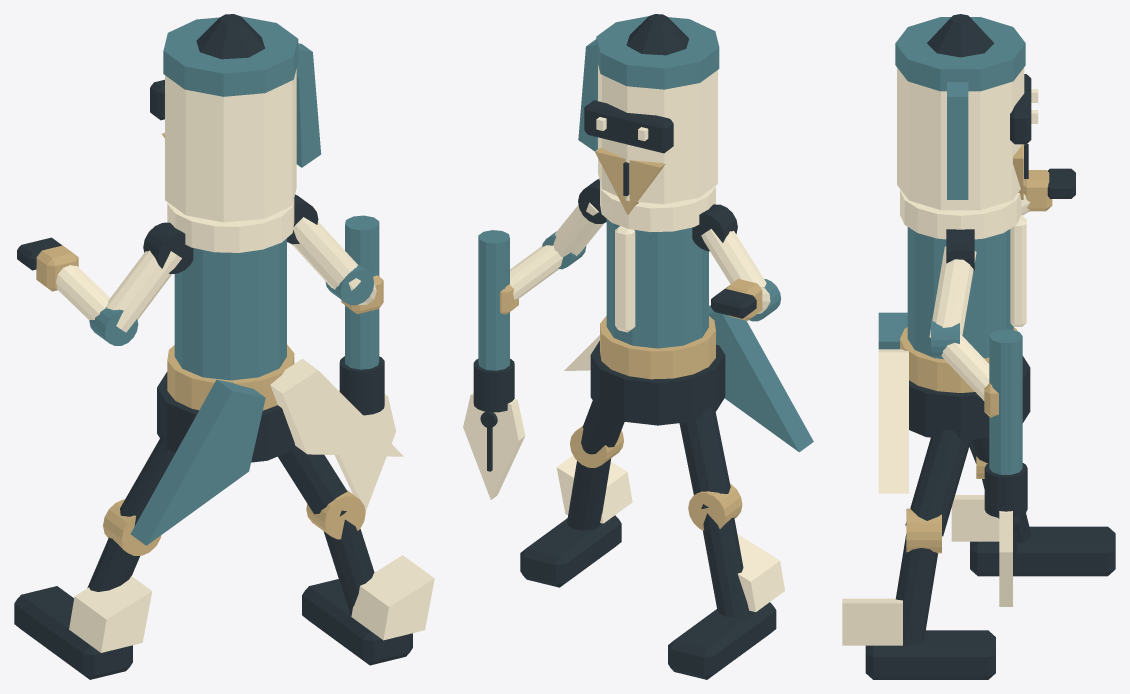
The picture shows the model from 3 angles, left to right: view 1: azimuth 30°, elevation 25°; view 2: azimuth 150°, elevation 25°; view 3: azimuth 270°, elevation 25°; orthographic projection. The views are drawn at different scales.
Visible parts, largest first — view 1: pen_cap_head, ink_cartridge, left_nib_tail, cap_crown, right_nib_tail, L_shoe, R_speed_heel, L_speed_heel, R_shoe, cartridge_collar, dash_pen_barrel, hip_inkwell (+19 smaller); view 2: pen_cap_head, ink_cartridge, hip_inkwell, left_nib_tail, cap_crown, L_shoe, R_shoe, dash_pen_barrel, cartridge_base, dash_nib, L_shin, cartridge_collar (+20 smaller); view 3: pen_cap_head, ink_cartridge, cap_crown, L_shoe, R_shoe, dash_pen_barrel, right_nib_tail, hip_inkwell, R_thigh, cartridge_collar, R_shin, R_speed_heel (+18 smaller).
Part boxes in pixels (x1,y1,x2,y2): pen_cap_head: (165, 69, 296, 222); ink_cartridge: (174, 238, 286, 380); left_nib_tail: (130, 379, 265, 545); cap_crown: (163, 16, 298, 96); right_nib_tail: (270, 359, 403, 456); L_shoe: (14, 586, 132, 679); R_speed_heel: (351, 555, 434, 640); L_speed_heel: (69, 576, 152, 652); R_shoe: (302, 579, 412, 665); cartridge_collar: (167, 198, 294, 252); dash_pen_barrel: (345, 215, 379, 369); hip_inkwell: (157, 372, 296, 462); pen_cap_head: (598, 65, 717, 204); ink_cartridge: (606, 219, 708, 348); hip_inkwell: (590, 341, 725, 425); left_nib_tail: (709, 305, 813, 452); cap_crown: (596, 16, 719, 89); L_shoe: (668, 602, 776, 679); R_shoe: (520, 515, 621, 587); dash_pen_barrel: (478, 230, 509, 370); cartridge_base: (600, 316, 715, 379); dash_nib: (463, 392, 525, 499); L_shin: (702, 513, 750, 617); cartridge_collar: (600, 182, 715, 232); pen_cap_head: (897, 67, 1024, 210); ink_cartridge: (907, 227, 1013, 359); cap_crown: (895, 17, 1025, 91); L_shoe: (970, 526, 1115, 576); R_shoe: (865, 630, 995, 679); dash_pen_barrel: (989, 329, 1022, 474); right_nib_tail: (878, 349, 908, 493); hip_inkwell: (909, 356, 1030, 440); R_thigh: (905, 429, 970, 536); cartridge_collar: (900, 189, 1021, 239); R_shin: (895, 534, 937, 645); R_speed_heel: (842, 598, 902, 645).
Bounding box in the file's own units: 1.23 × 2.19 × 0.9012.
